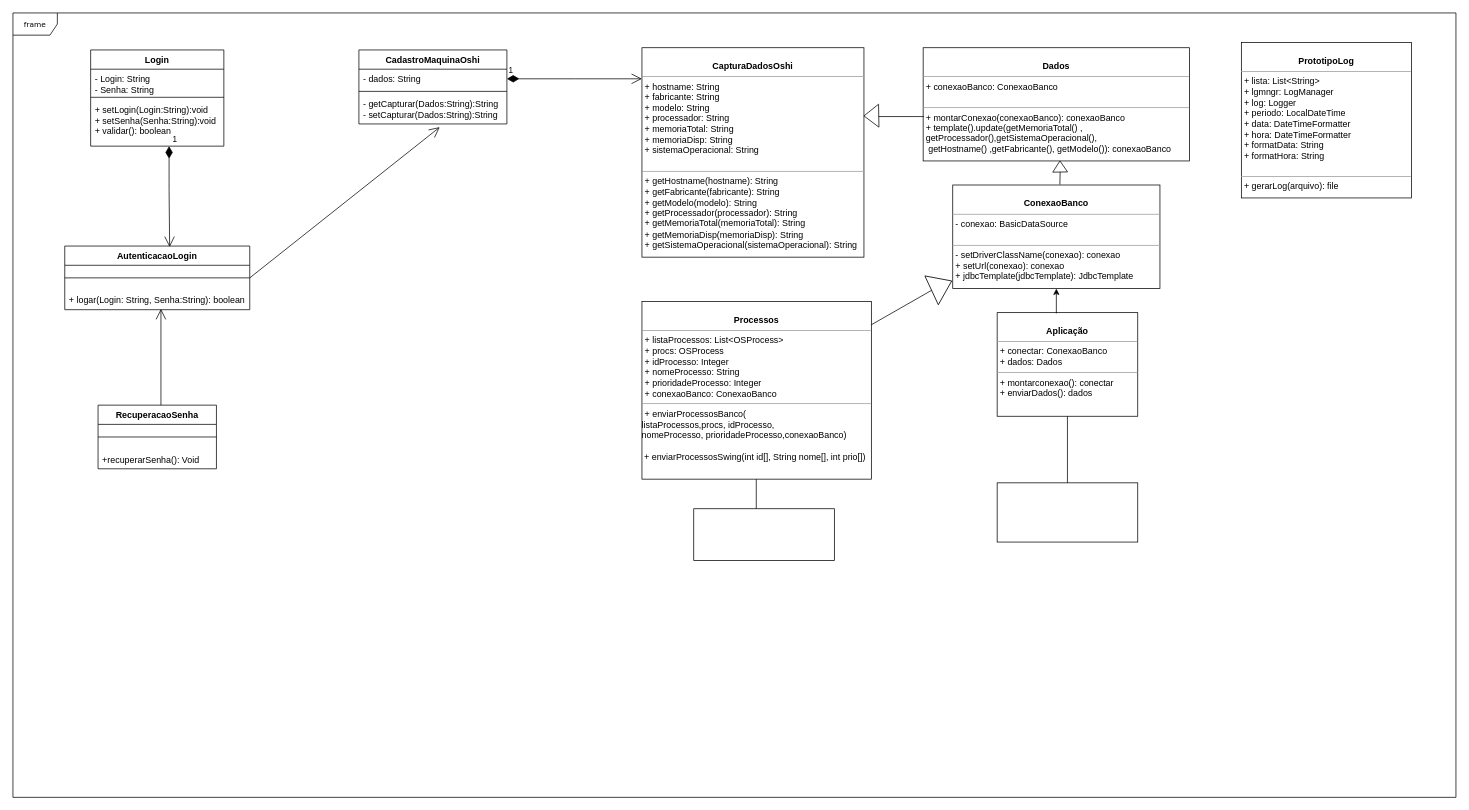
Image size: 1469x810. Some labels were removed from this diagram. Each missing label, with the centre of its shape:
ExecutarAplicacao + main(executar):Aplicacao: the point at 1067,512
MatarProcessos + kill(String processo): Boolean: the point at 763,534
